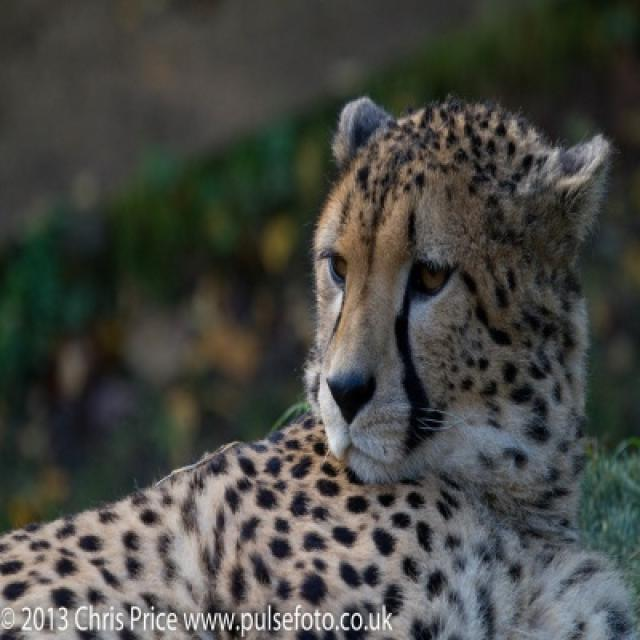Cheetah: (0, 94, 638, 638)
